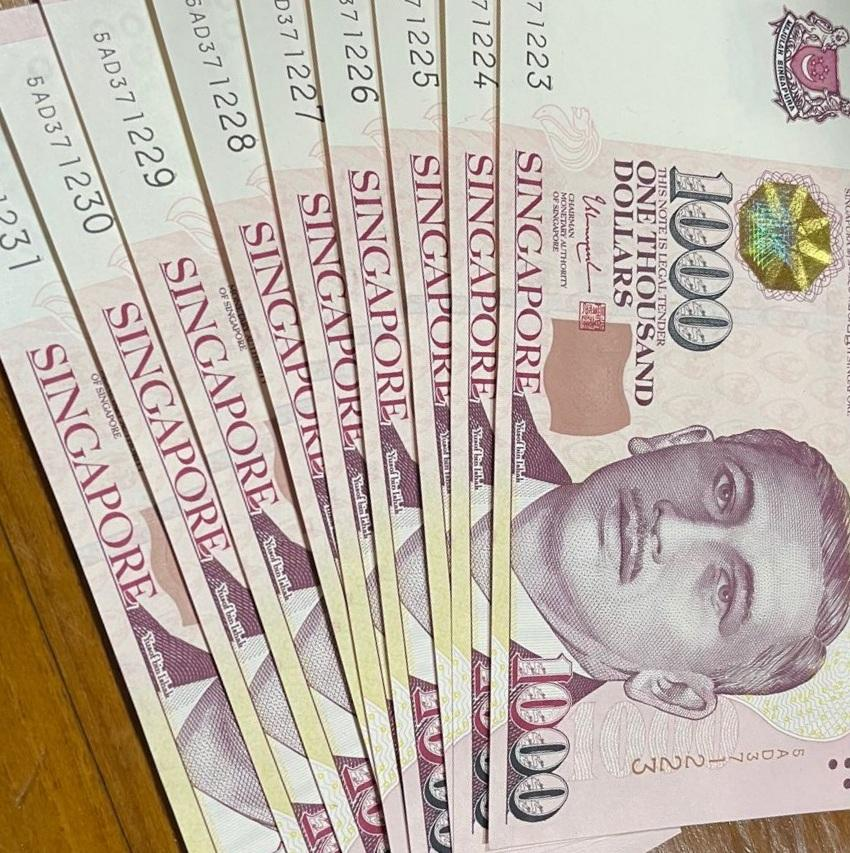1000SingaporeDollar: (502, 0, 850, 819)
